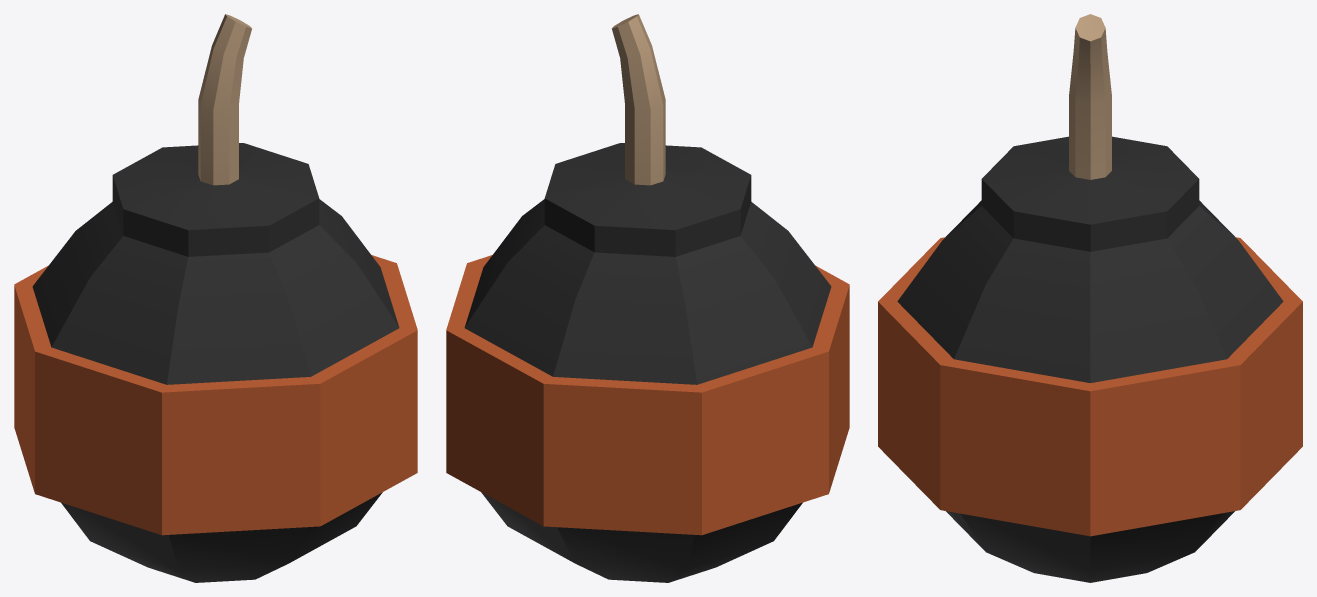
File: Grenade_04.fbx
The picture shows the model from 3 angles, left to right: view 1: azimuth 30°, elevation 25°; view 2: azimuth 150°, elevation 25°; view 3: azimuth 270°, elevation 25°; orthographic projection.
Visible parts, largest first — view 1: Grenade_04_LOD0; view 2: Grenade_04_LOD0; view 3: Grenade_04_LOD0.
Boxes of the visible parts, x1,y1,x2,y2 form: Grenade_04_LOD0: [14, 14, 417, 582]; Grenade_04_LOD0: [446, 14, 849, 582]; Grenade_04_LOD0: [878, 14, 1302, 582].
Size of what is drawn, in the model's own units: 0.1296 by 0.1821 by 0.1296.
